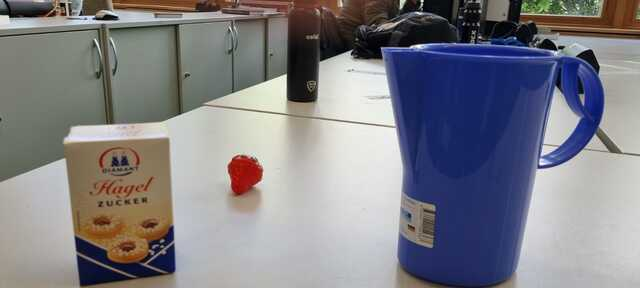004_sugar_box: (62, 121, 178, 288)
012_strawberry: (227, 153, 266, 196)
019_pitcher_base: (380, 42, 602, 283)
